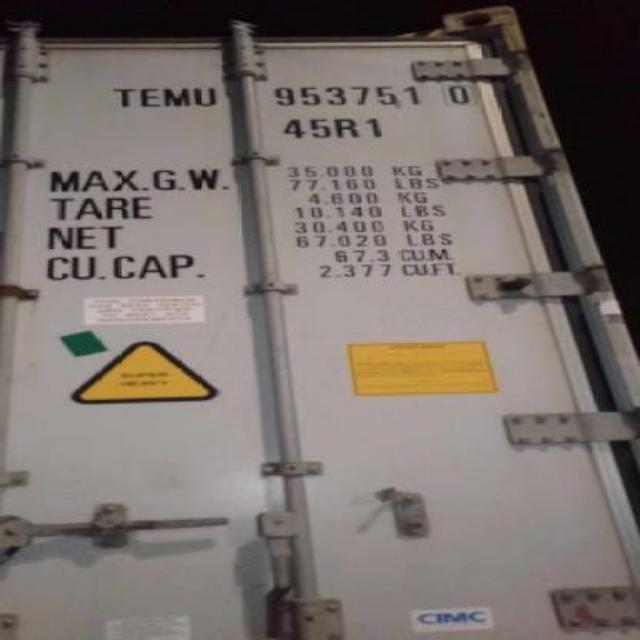0: (440, 85, 478, 106)
1: (400, 83, 424, 107)
3: (320, 84, 346, 106)
5: (296, 84, 324, 108), (372, 84, 398, 106)
7: (348, 85, 372, 109)
9: (272, 84, 296, 110)
E: (136, 86, 162, 112)
M: (164, 86, 190, 110)
T: (112, 84, 136, 108)
U: (190, 86, 220, 110)
